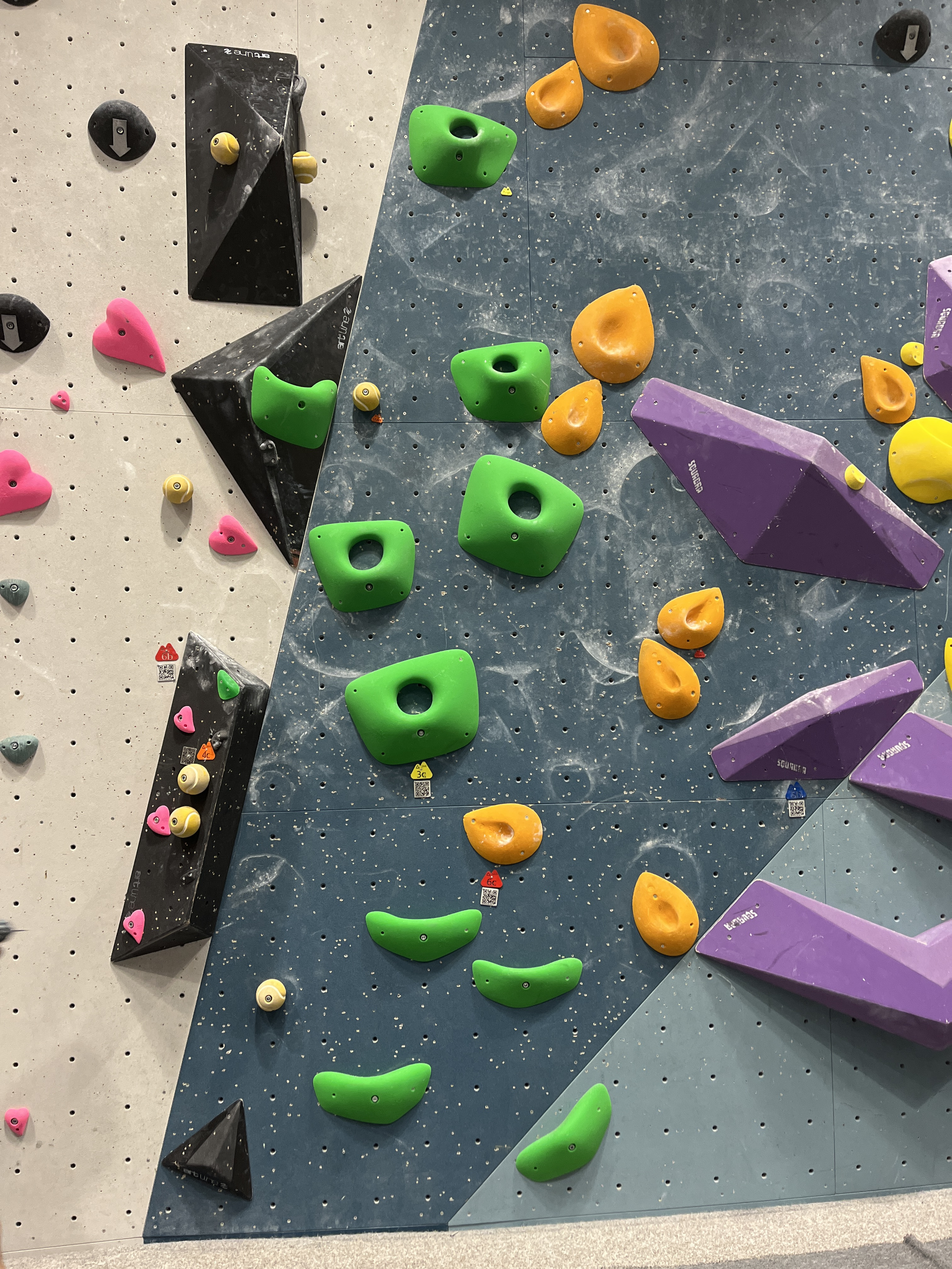hold: (632, 379, 943, 589), (697, 880, 952, 1051), (715, 662, 928, 782), (458, 456, 585, 578), (344, 651, 478, 765), (850, 711, 952, 819), (307, 521, 413, 611), (517, 1085, 611, 1181), (409, 106, 517, 188), (572, 286, 655, 384), (451, 342, 553, 421), (575, 5, 660, 91), (312, 1063, 430, 1124), (250, 368, 334, 446), (366, 911, 481, 961), (889, 417, 952, 504), (633, 873, 699, 956), (90, 297, 162, 372), (472, 959, 582, 1007), (638, 639, 699, 720), (465, 805, 544, 864), (543, 380, 604, 456), (923, 255, 952, 410), (85, 100, 152, 161), (657, 588, 724, 648), (527, 63, 585, 127), (861, 356, 915, 423), (0, 448, 48, 515), (877, 9, 931, 63), (0, 296, 46, 351), (208, 515, 256, 554), (0, 734, 38, 765), (170, 806, 200, 838), (255, 980, 284, 1011), (210, 133, 238, 165), (0, 578, 30, 607), (179, 764, 209, 792), (163, 475, 191, 505), (291, 152, 317, 182), (123, 909, 145, 944), (353, 382, 378, 411), (147, 805, 170, 836), (216, 670, 239, 700), (5, 1108, 29, 1136), (173, 705, 195, 734), (900, 341, 924, 367), (292, 73, 307, 113), (845, 464, 866, 490), (259, 439, 278, 466), (945, 637, 952, 689), (211, 728, 225, 752), (48, 392, 66, 410), (182, 870, 195, 885)
volume: (171, 274, 362, 574), (109, 628, 272, 965), (184, 44, 302, 306), (158, 1098, 254, 1203)
